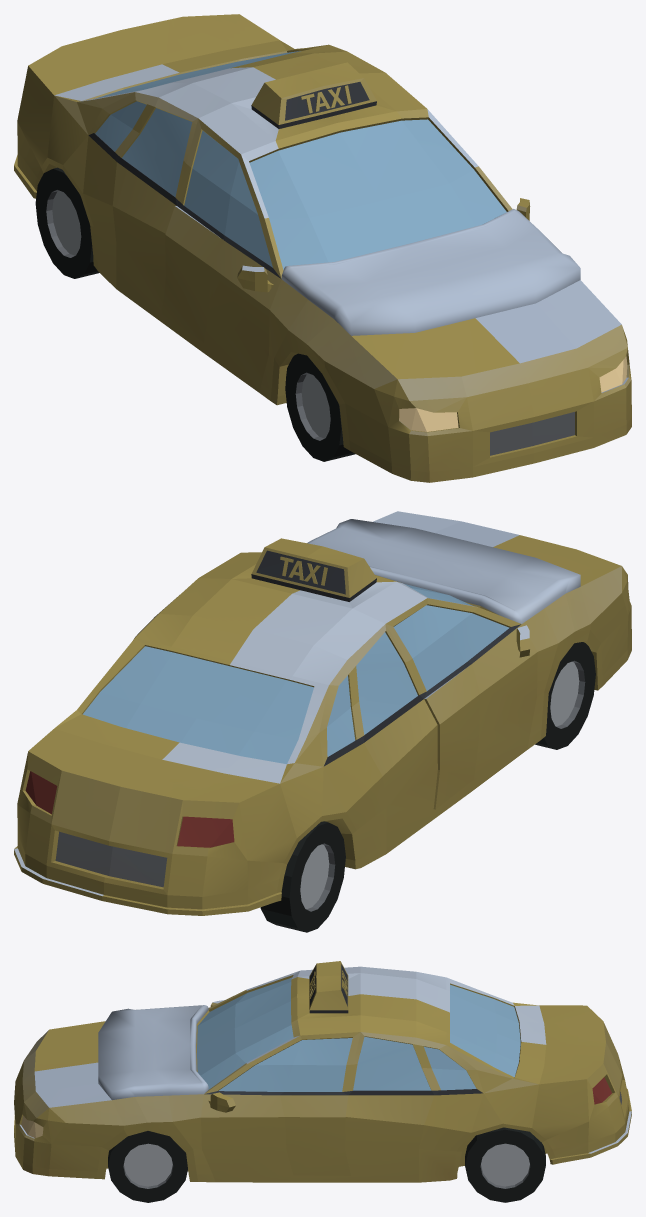
File: taxi_clean.glb
3 renders of one model, top to bottom at view 1: azimuth 30°, elevation 25°; view 2: azimuth 150°, elevation 25°; view 3: azimuth 270°, elevation 25°, orthographic. The views are drawn at different scales.
Parts seen in each view (by area): view 1: Body, Glass; view 2: Body, Glass; view 3: Body, Glass.
Part boxes in pixels (x1,y1,x2,y2): Body: (14,14,631,482); Glass: (94,51,506,269); Body: (14,511,631,932); Glass: (83,584,509,764); Body: (14,961,631,1202); Glass: (197,977,520,1091).
Bounding box in the file's own units: 1.82 × 1.52 × 4.65.
